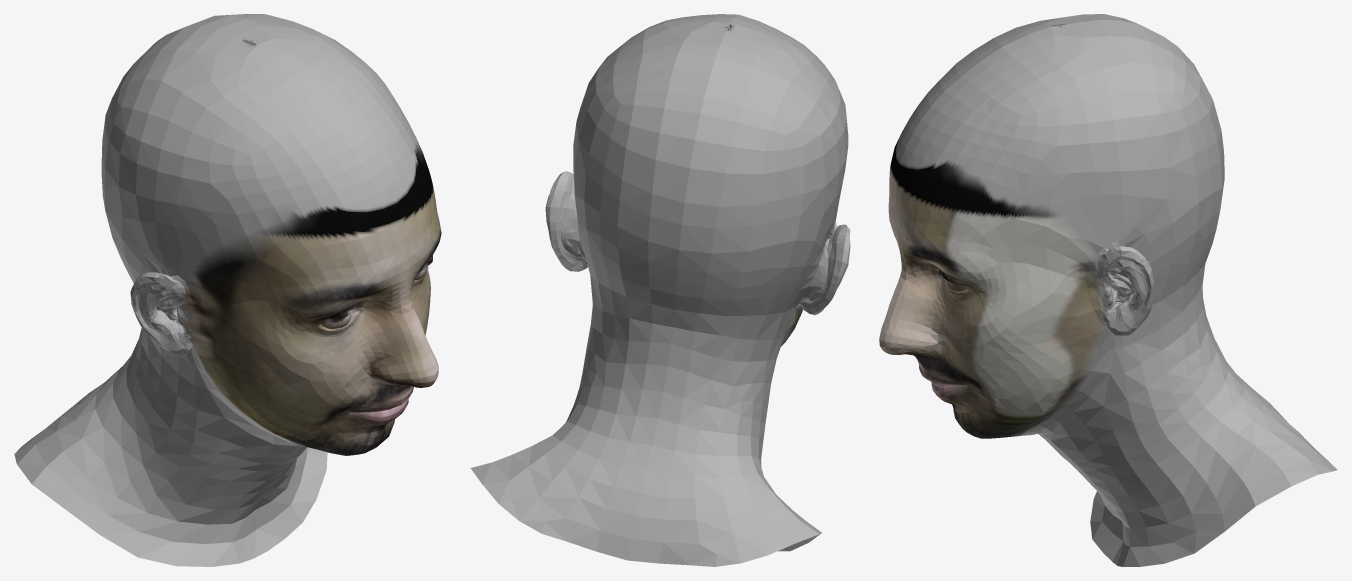
Rendered from ezgif-frame-035.obj.
The picture shows the model from 3 angles, left to right: view 1: azimuth 30°, elevation 25°; view 2: azimuth 150°, elevation 25°; view 3: azimuth 270°, elevation 25°; orthographic projection. The views are drawn at different scales.
Size of the model in its own units: 0.2007 by 0.3269 by 0.2635.
Materials: 1 (1 with a texture image).
